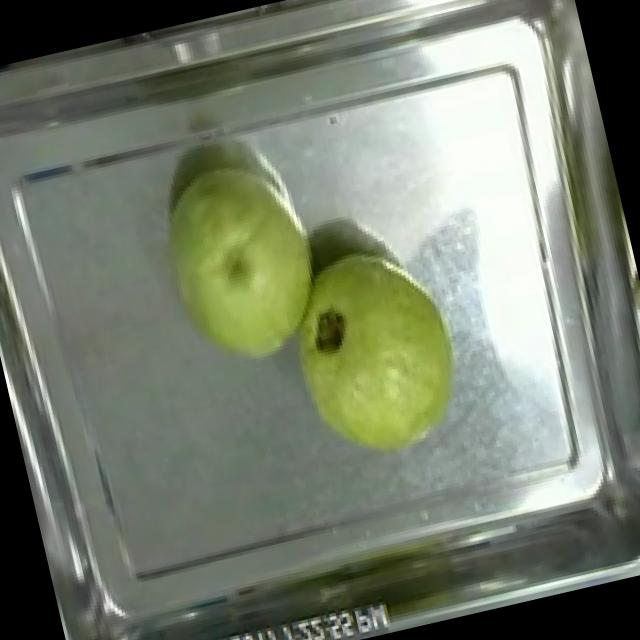Fruit: (265, 228, 483, 479), (137, 142, 346, 384)
